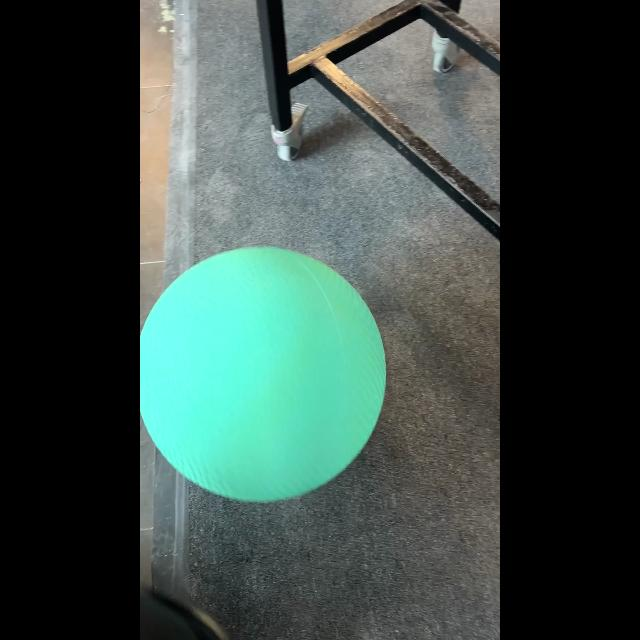ALGAE: (141, 245, 387, 503)
